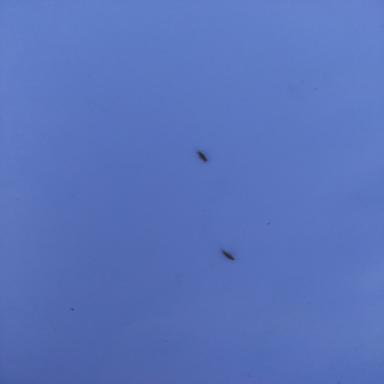pbw: (193, 149, 212, 165), (219, 248, 238, 262)
